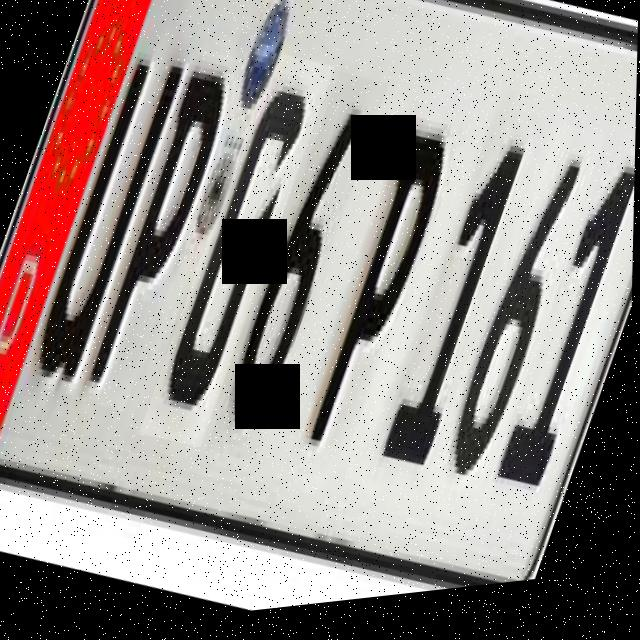0: (140, 53, 335, 458)
1: (367, 94, 559, 507), (484, 139, 637, 526)
6: (208, 75, 389, 472), (434, 133, 607, 511)
P: (285, 104, 473, 495), (77, 50, 247, 418)
U: (16, 34, 196, 413)
